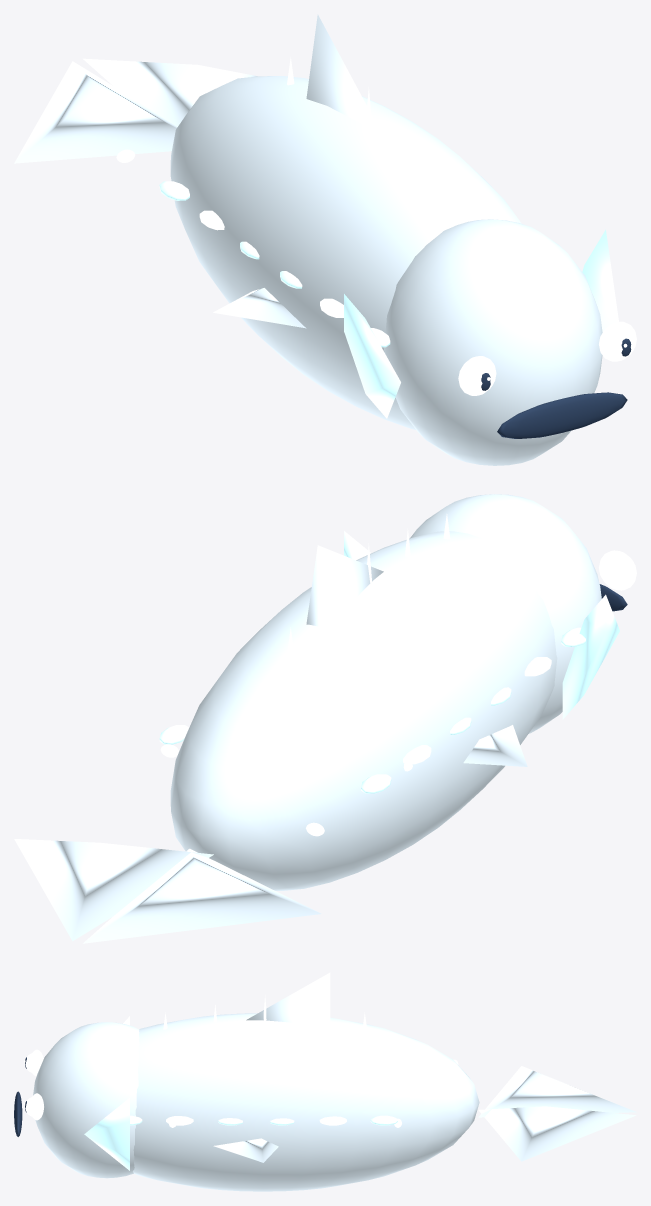
File: glacier-tusk.glb
3 views of the same model, one above another, from view 1: azimuth 30°, elevation 25°; view 2: azimuth 150°, elevation 25°; view 3: azimuth 270°, elevation 25° (orthographic). The views are drawn at different scales.
Visible parts, largest first — view 1: body, head, tail-lobe--1, tail-lobe-1, mouth, dorsal-fin-blade, cheek-blade--1, cheek-blade-1, swim-fin--1-blade; view 2: body, head, tail-lobe--1, tail-lobe-1, dorsal-fin-blade, cheek-blade--1, swim-fin--1-blade, eye-glow--1; view 3: body, head, tail-lobe-1, tail-lobe--1, dorsal-fin-blade, cheek-blade-1, swim-fin-1-blade, mouth.
Boxes of the visible parts, <box> form: body: <box>170,76,521,429</box>; head: <box>383,219,602,465</box>; tail-lobe--1: <box>14,61,177,163</box>; tail-lobe-1: <box>83,58,257,126</box>; mouth: <box>497,392,627,438</box>; dorsal-fin-blade: <box>306,14,383,137</box>; cheek-blade--1: <box>344,294,400,418</box>; cheek-blade-1: <box>582,229,618,332</box>; swim-fin--1-blade: <box>213,288,306,328</box>; body: <box>170,531,557,890</box>; head: <box>410,494,601,733</box>; tail-lobe--1: <box>83,848,321,943</box>; tail-lobe-1: <box>14,839,213,941</box>; dorsal-fin-blade: <box>306,545,383,629</box>; cheek-blade--1: <box>562,594,619,719</box>; swim-fin--1-blade: <box>463,725,527,766</box>; eye-glow--1: <box>599,550,636,590</box>; body: <box>133,1013,479,1191</box>; head: <box>33,1022,139,1178</box>; tail-lobe-1: <box>478,1106,636,1161</box>; tail-lobe--1: <box>478,1066,636,1117</box>; dorsal-fin-blade: <box>246,972,330,1027</box>; cheek-blade-1: <box>84,1098,129,1170</box>; swim-fin-1-blade: <box>213,1138,278,1162</box>; mouth: <box>14,1091,22,1136</box>.
Bounding box in the file's own units: 1.93 × 1.95 × 5.18.
